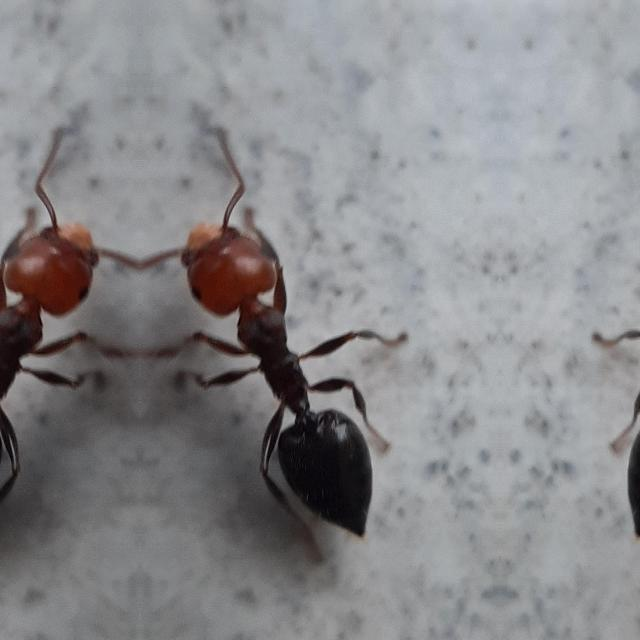Crematogaster: (173, 192, 425, 542), (0, 192, 107, 542), (575, 192, 640, 542)
